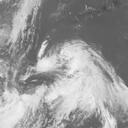cyclone: (45, 44, 106, 107)
